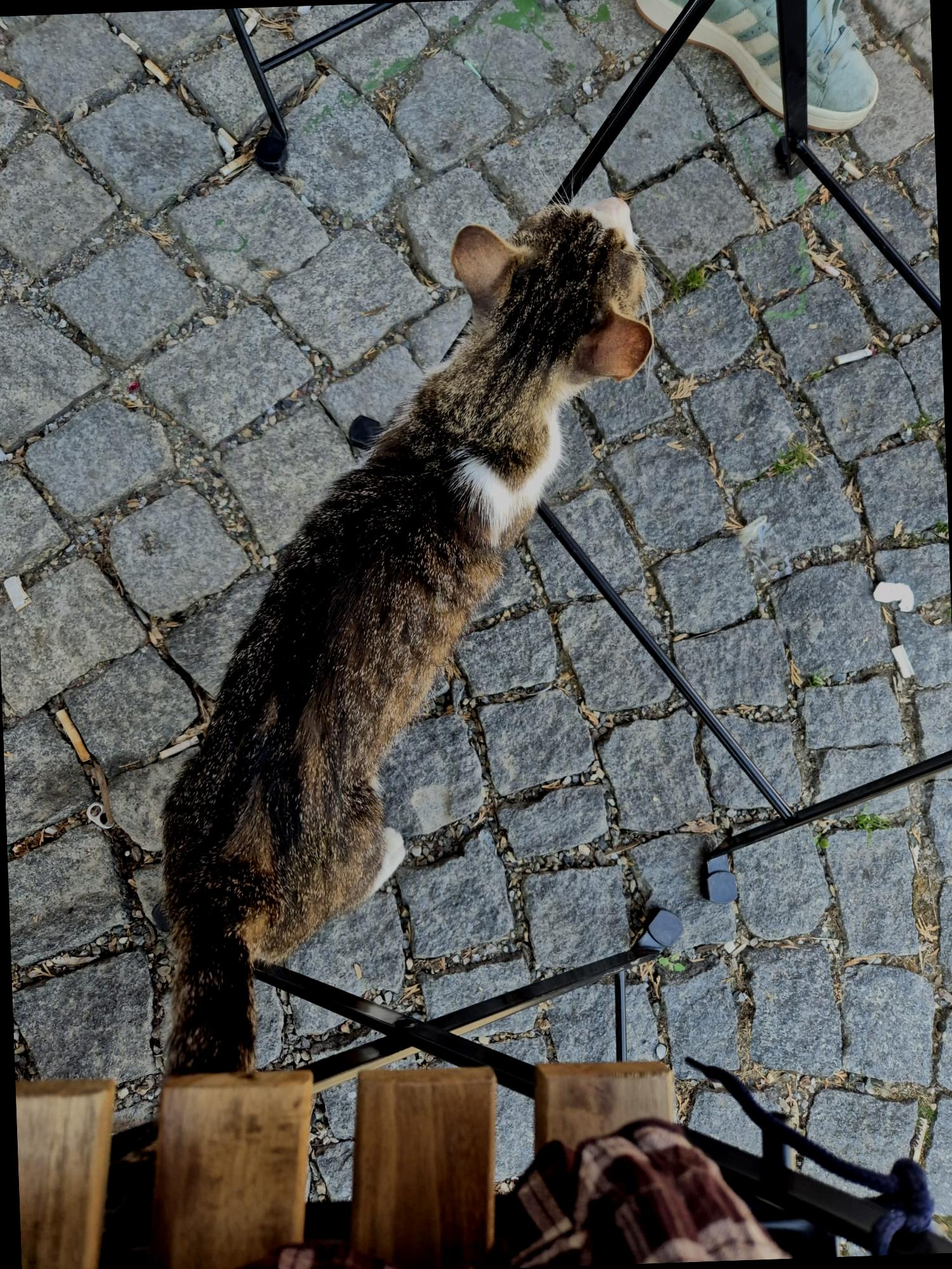macka: (129, 189, 684, 1078)
